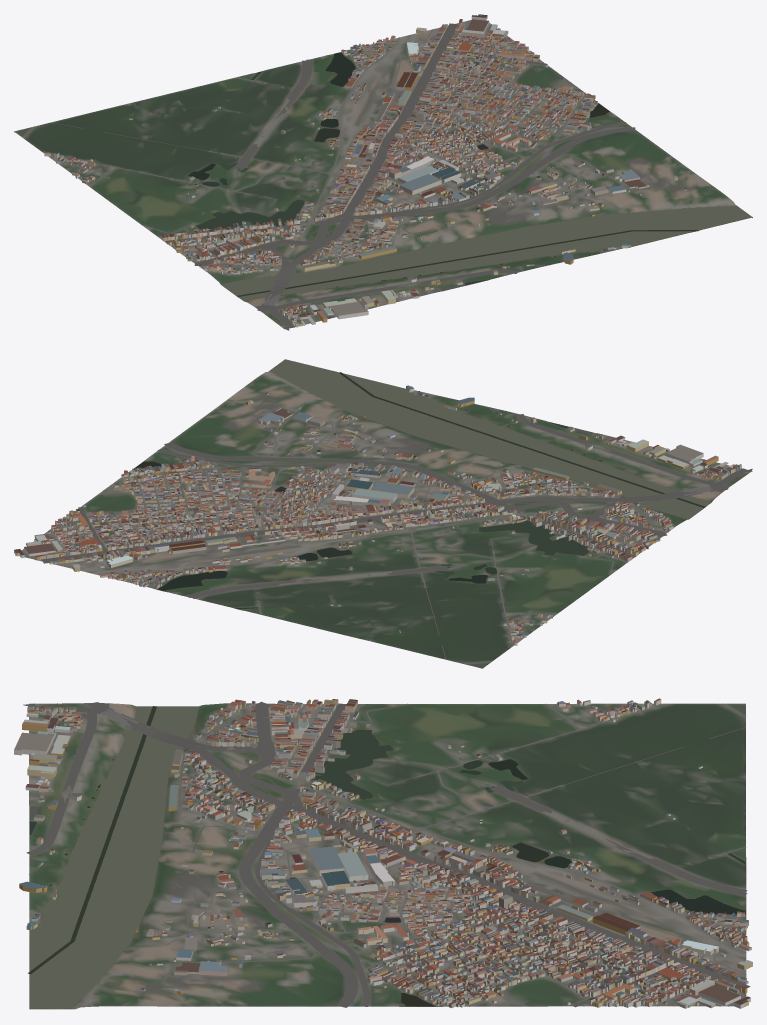
3 views of the same model, one above another, from view 1: azimuth 30°, elevation 25°; view 2: azimuth 150°, elevation 25°; view 3: azimuth 270°, elevation 25° (orthographic). The views are drawn at different scales.
Parts seen in each view (by area): view 1: ground, buildings, water, roads; view 2: ground, buildings, water, roads; view 3: ground, buildings, water, roads.
Boxes of the visible parts, <box> form: ground: <box>14,20,752,329</box>; buildings: <box>44,14,686,327</box>; water: <box>188,52,751,300</box>; roads: <box>23,20,717,330</box>; ground: <box>15,359,752,668</box>; buildings: <box>14,385,741,645</box>; water: <box>134,359,710,609</box>; roads: <box>22,382,752,663</box>; ground: <box>29,703,746,1009</box>; buildings: <box>14,698,752,1008</box>; water: <box>28,706,745,1008</box>; roads: <box>23,701,750,1007</box>.
Size of the model in its own units: 1418 by 33.08 by 1445.
